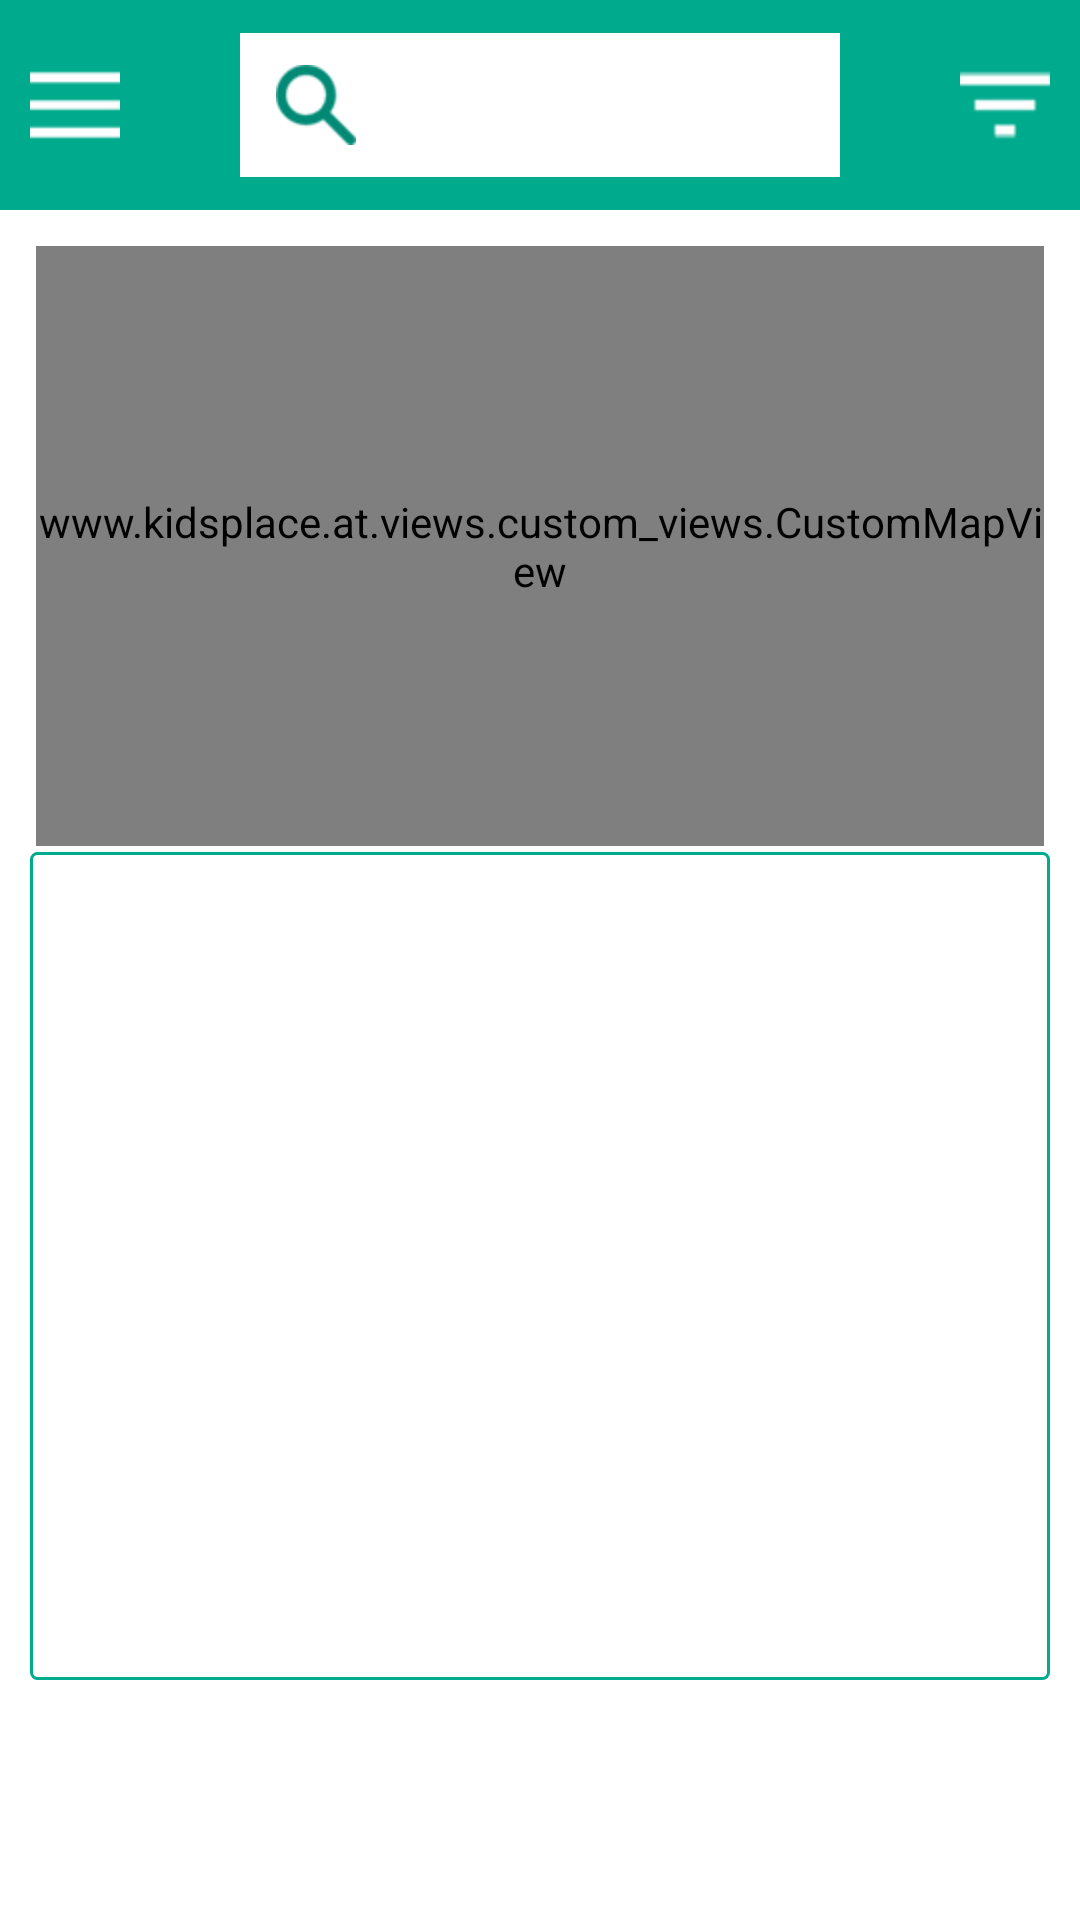

Icon click points for this 1080 × 1920 phone screenshot, format [x,y]:
filter: [1005,105]
menu: [75,105]
